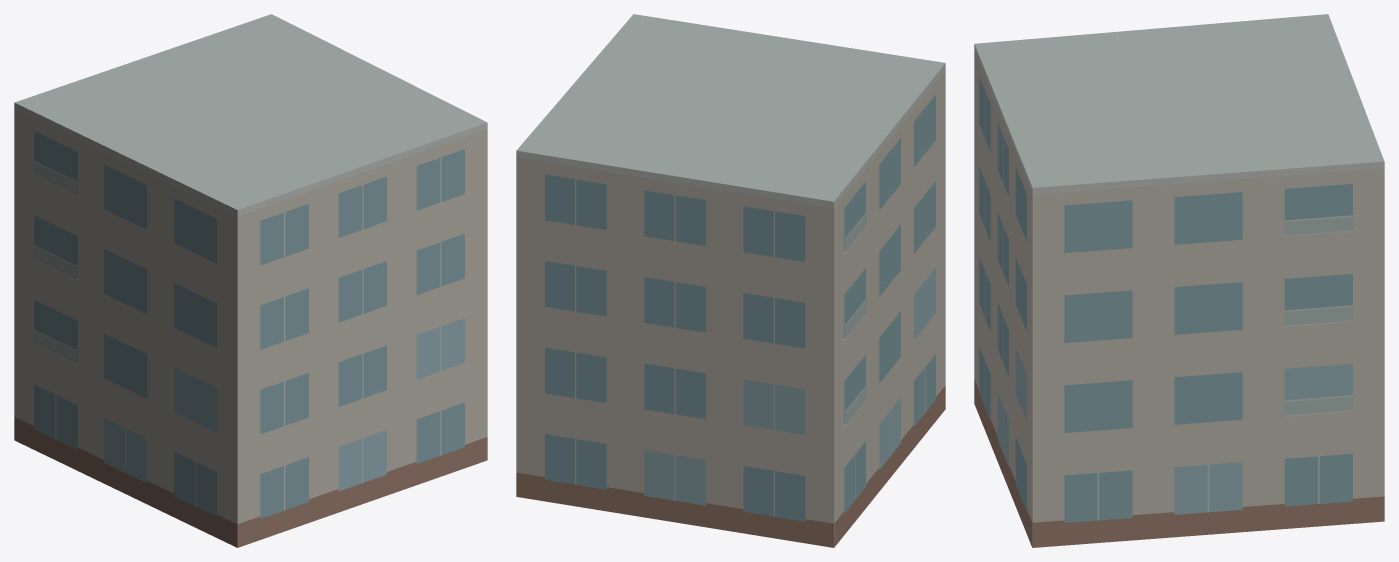
Rendered from survey-upis-32538601.glb.
3 views of the same model, side by side, from view 1: azimuth 30°, elevation 25°; view 2: azimuth 150°, elevation 25°; view 3: azimuth 270°, elevation 25° (orthographic). The views are drawn at different scales.
Visible parts, largest first — view 1: survey-upis-32538601.tmp; view 2: survey-upis-32538601.tmp; view 3: survey-upis-32538601.tmp.
Boxes of the visible parts, x1=… form: survey-upis-32538601.tmp: x1=14, y1=14, x2=487, y2=547; survey-upis-32538601.tmp: x1=516, y1=14, x2=945, y2=547; survey-upis-32538601.tmp: x1=974, y1=14, x2=1384, y2=547.
Bounding box in the file's own units: 13.26 × 12.79 × 13.22.
